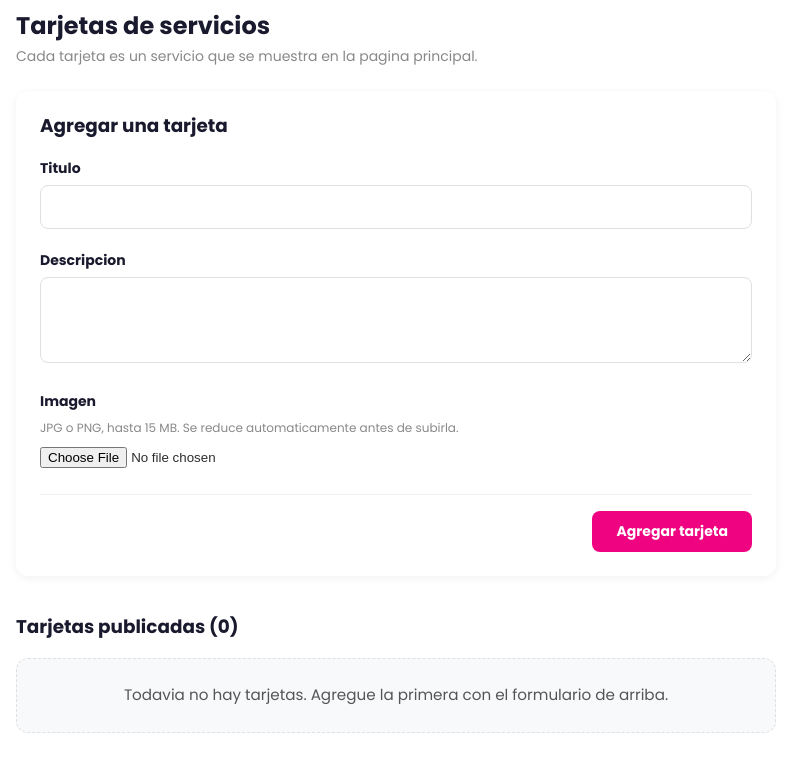
Test: AdminCards › explains the failure instead of staying silent
This screenshot has width=793, height=780.
Check: the text "Todavia no hay tarjetas" is shown, box top-left (124, 684), bottom-right (668, 705)
Type "Braille" into the field labelled "Titulo" at [396, 207], box top-left (40, 185), bottom-right (752, 229)
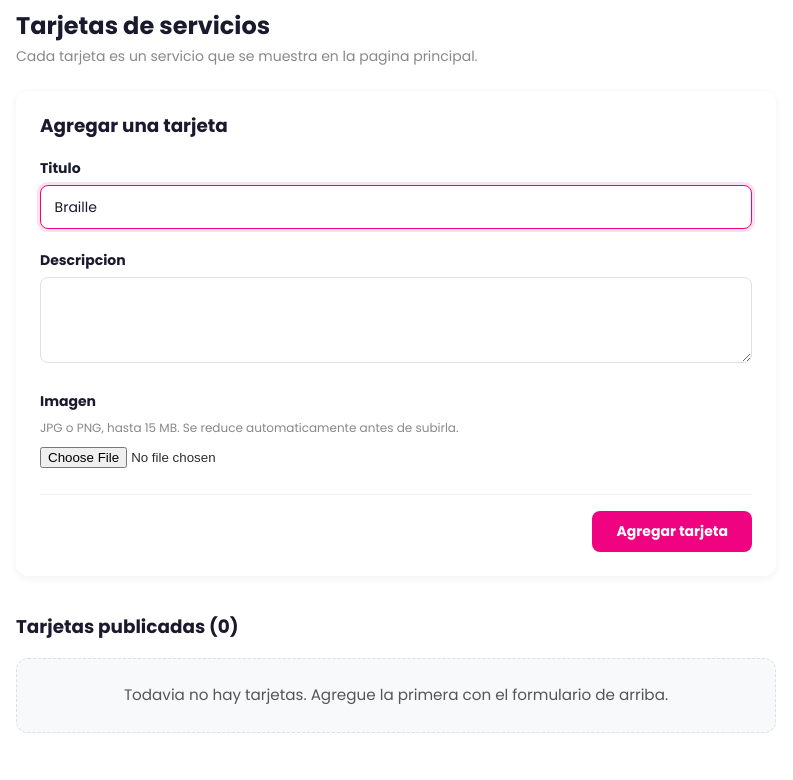
Click the button "Agregar tarjeta" at [672, 531], box top-left (592, 510), bottom-right (752, 552)
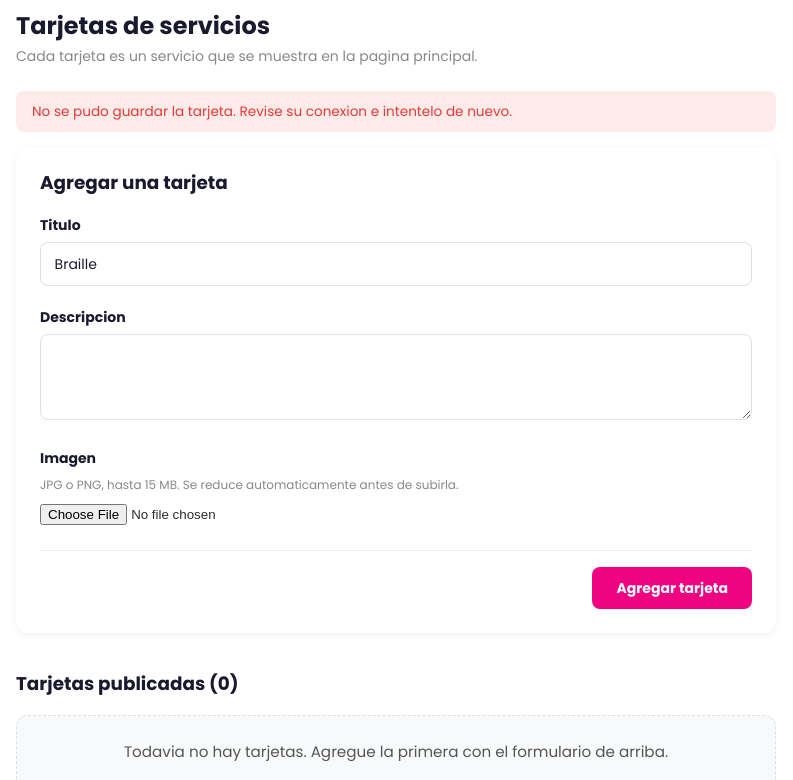
Check: the button "Agregar tarjeta" is enabled, box top-left (592, 568), bottom-right (752, 609)
Check: the message shows "No se pudo guardar la tarjeta", box top-left (32, 102), bottom-right (512, 121)
